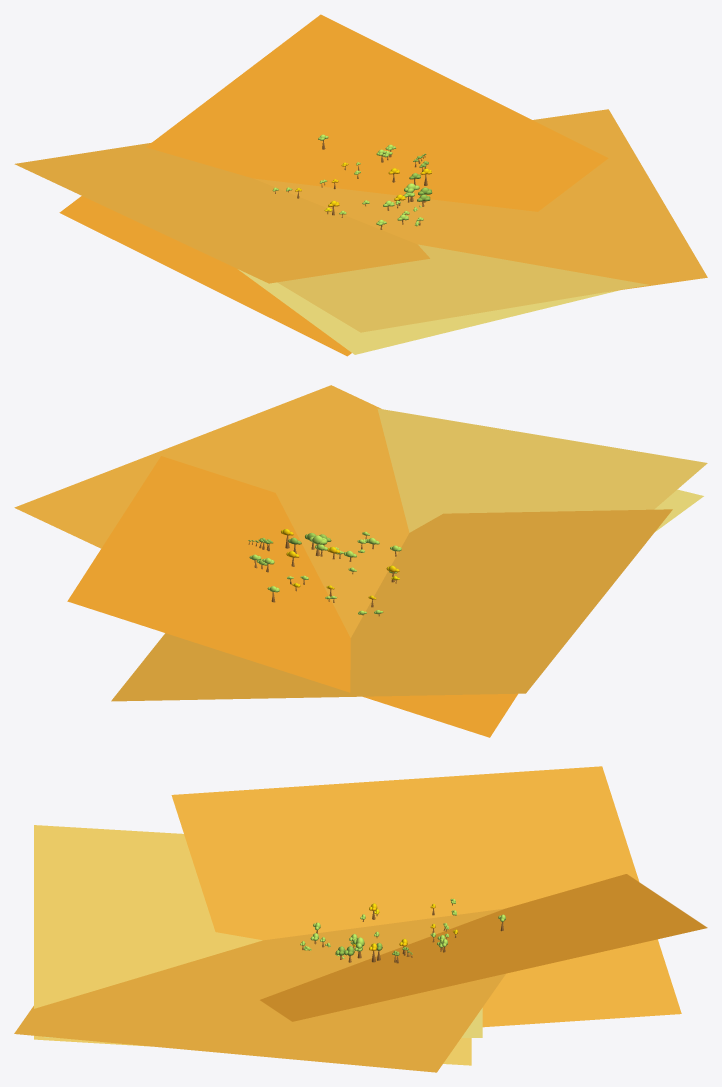
Rendered from environment.glb.
3 renders of one model, top to bottom at view 1: azimuth 30°, elevation 25°; view 2: azimuth 150°, elevation 25°; view 3: azimuth 270°, elevation 25°, orthographic. The views are drawn at different scales.
Visible parts, largest first — view 1: Plane.004, Plane.002, Plane.003, Plane.001, Plane, leaf4.004; view 2: Plane.003, Plane.004, Plane.002, Plane.001, leaf4.004, Plane; view 3: Plane.003, Plane.002, Plane.001, Plane.004, leaf4.004.
Boxes of the visible parts, box(x1,y1,x2,y2) form: Plane.004: box(59, 14, 608, 356); Plane.002: box(254, 109, 707, 291); Plane.003: box(14, 142, 429, 283); Plane.001: box(277, 244, 648, 332); Plane: box(238, 269, 618, 354); leaf4.004: box(272, 134, 432, 226); Plane.003: box(111, 509, 672, 701); Plane.004: box(67, 456, 517, 737); Plane.002: box(14, 385, 409, 637); Plane.001: box(377, 408, 707, 532); leaf4.004: box(248, 529, 401, 614); Plane: box(654, 489, 703, 531); Plane.003: box(171, 766, 681, 1027); Plane.002: box(14, 908, 505, 1072); Plane.001: box(34, 825, 471, 1065); Plane.004: box(260, 874, 707, 1021); leaf4.004: box(300, 898, 505, 958).
Size of the model in its own units: 308 by 65.12 by 317.
1 material, 1 textured.
